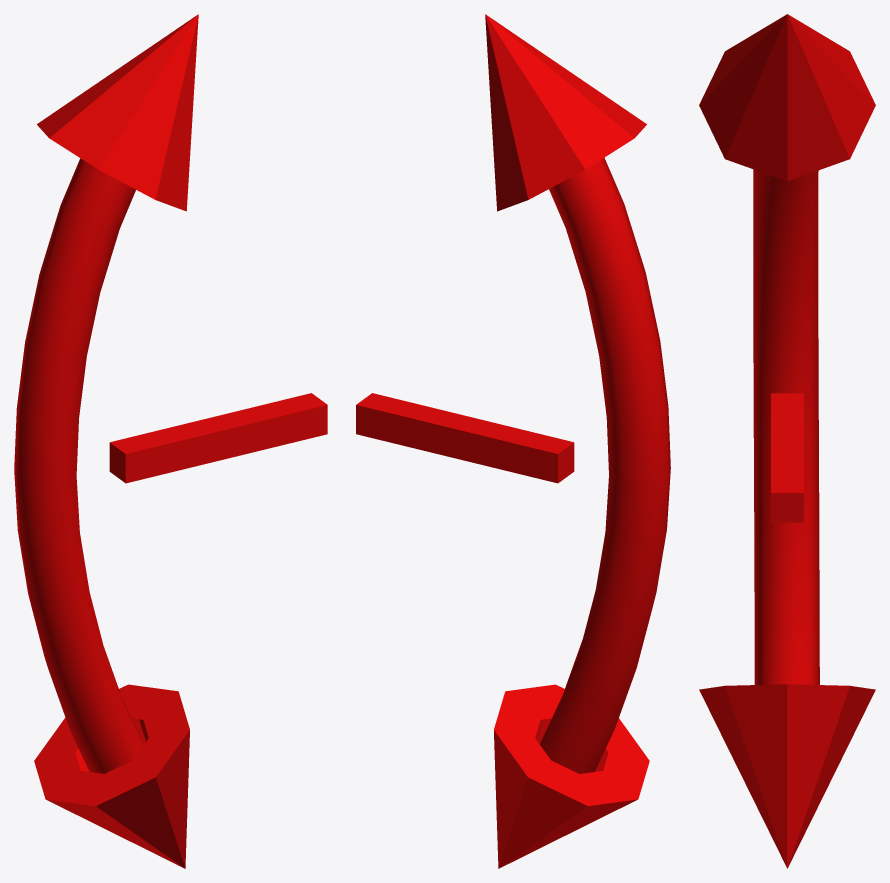
Rendered from GizmoBank.fbx.
3 views of the same model, side by side, from view 1: azimuth 30°, elevation 25°; view 2: azimuth 150°, elevation 25°; view 3: azimuth 270°, elevation 25° (orthographic).
Parts seen in each view (by area): view 1: BezierCurve, Cylinder, Cylinder.001; view 2: BezierCurve, Cylinder, Cylinder.001; view 3: BezierCurve, Cylinder, Cylinder.001.
Part boxes in pixels (x1=…): BezierCurve: x1=14, y1=158, x2=143, y2=773; Cylinder: x1=37, y1=14, x2=327, y2=483; Cylinder.001: x1=34, y1=684, x2=189, y2=868; BezierCurve: x1=539, y1=157, x2=670, y2=773; Cylinder: x1=356, y1=14, x2=646, y2=483; Cylinder.001: x1=494, y1=684, x2=649, y2=868; BezierCurve: x1=753, y1=169, x2=819, y2=684; Cylinder: x1=699, y1=14, x2=875, y2=522; Cylinder.001: x1=699, y1=684, x2=875, y2=868.
Bounding box in the file's own units: 0.5435 × 1.46 × 0.2719.
